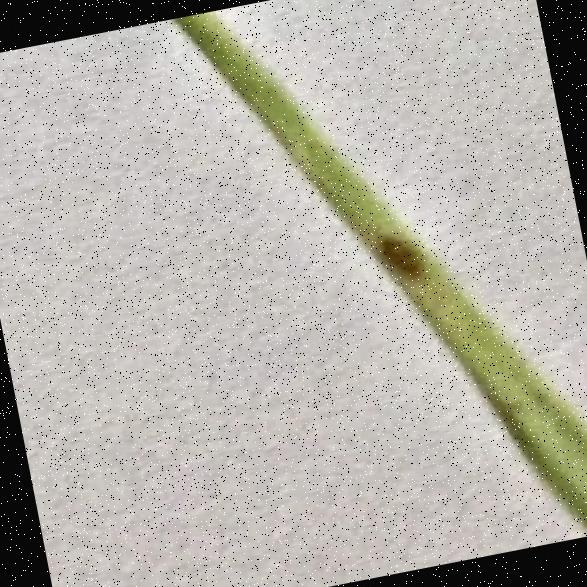Leaf_smut: (362, 217, 434, 290)
